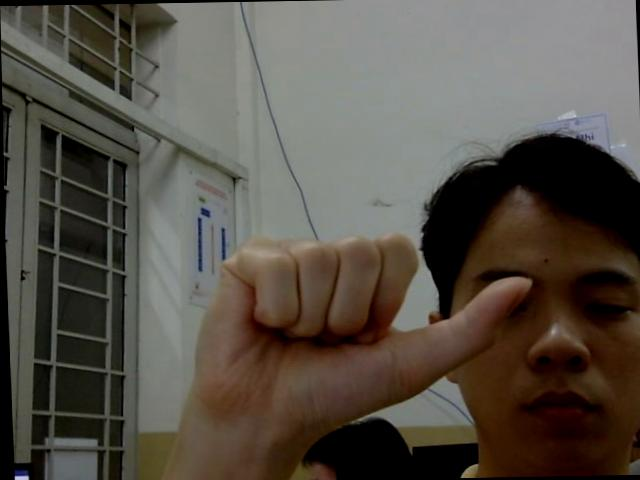A: (184, 218, 536, 422)
